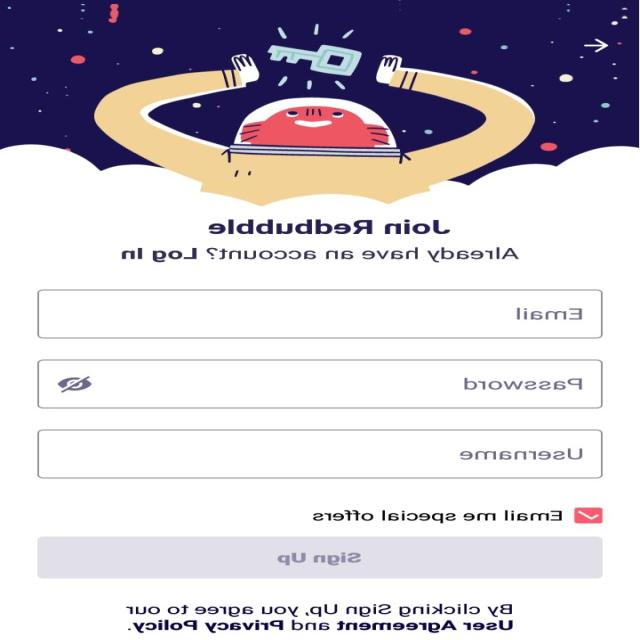EditText: (38, 359, 604, 408), (38, 429, 604, 478), (38, 290, 604, 338)
Icon: (58, 376, 94, 392), (583, 38, 609, 52)
Image: (1, 0, 640, 206)
Text: (126, 603, 514, 633), (121, 247, 520, 263), (313, 509, 562, 524), (208, 219, 452, 234), (464, 377, 582, 390), (460, 448, 582, 459), (516, 307, 582, 320)
TextButton: (38, 536, 603, 578)
